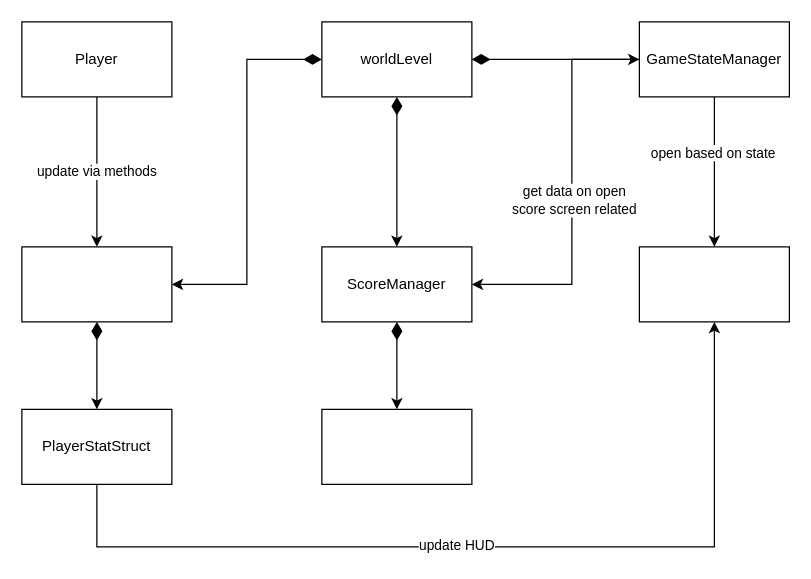
The diagram is 811 pixels wide and 579 high, and some of its shapes have lost their labels. The shapes that lost their labels are listed below. From the top down, each one's box as (x1, y1, x2, y2) in pixels, then its label:
(21, 246, 172, 322): PlayerStatsManager
(638, 246, 789, 322): UPlayerUi
(321, 408, 472, 484): ScoreInfoStruct
